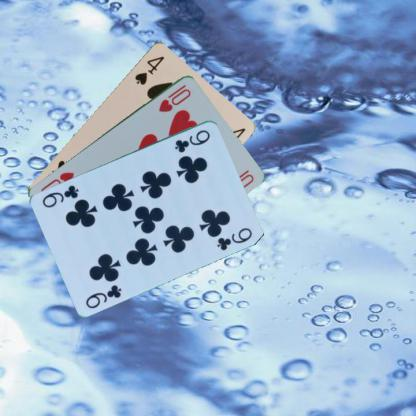10h: (156, 82, 192, 113)
4s: (132, 53, 166, 86)
9c: (83, 281, 123, 310), (172, 127, 212, 154)
